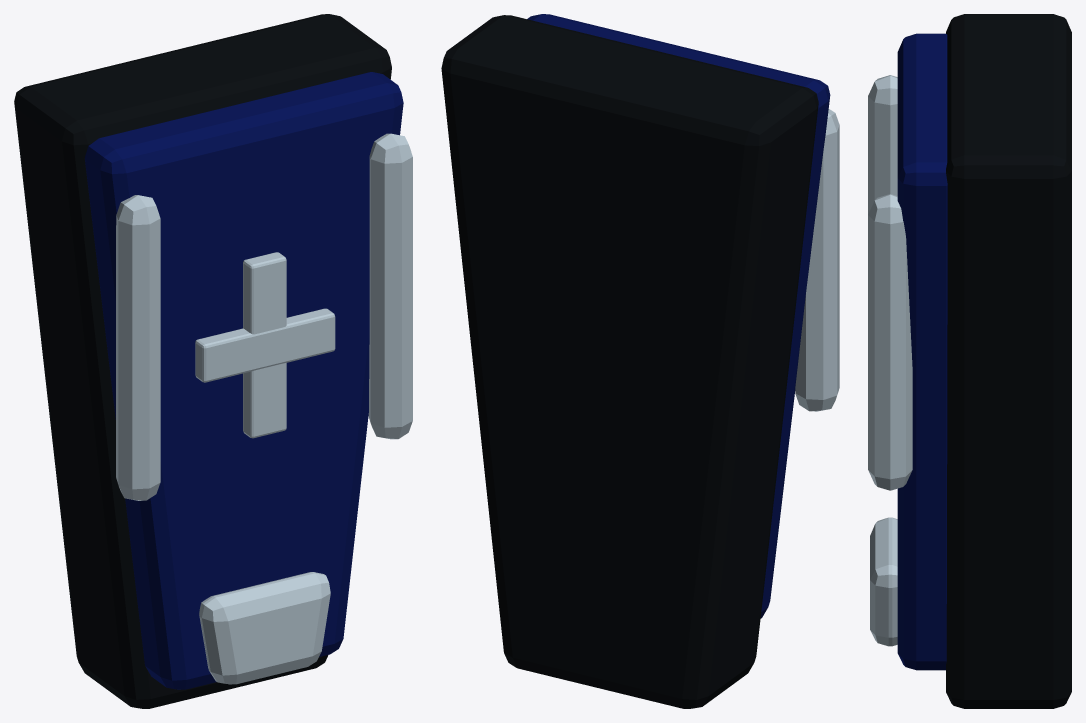
File: WISP_Shield_v002.fbx
The picture shows the model from 3 angles, left to right: view 1: azimuth 30°, elevation 25°; view 2: azimuth 150°, elevation 25°; view 3: azimuth 270°, elevation 25°; orthographic projection. The views are drawn at different scales.
Visible parts, largest first — view 1: Shield cobalt face, Shield graphite core, Shield white side rail, Shield white side rail.001, Shield tip, Shield insignia vertical, Shield insignia horizontal; view 2: Shield graphite core, Shield white side rail, Shield cobalt face; view 3: Shield graphite core, Shield cobalt face, Shield white side rail.001, Shield white side rail, Shield tip.
Boxes of the visible parts, x1,y1,x2,y2 form: Shield cobalt face: (84,72,403,689); Shield graphite core: (14,14,391,708); Shield white side rail: (116,195,160,500); Shield white side rail.001: (368,133,412,439); Shield tip: (199,572,330,684); Shield insignia vertical: (243,252,286,438); Shield insignia horizontal: (195,308,335,382); Shield graphite core: (441,15,818,708); Shield white side rail: (795,109,839,411); Shield cobalt face: (527,14,830,618); Shield graphite core: (946,14,1071,708); Shield cobalt face: (897,33,947,670); Shield white side rail.001: (868,194,912,490); Shield white side rail: (868,75,897,214); Shield tip: (870,517,897,646).
Size of the model in its own units: 0.4943 by 0.87 by 0.275.
1 material, 1 textured.
